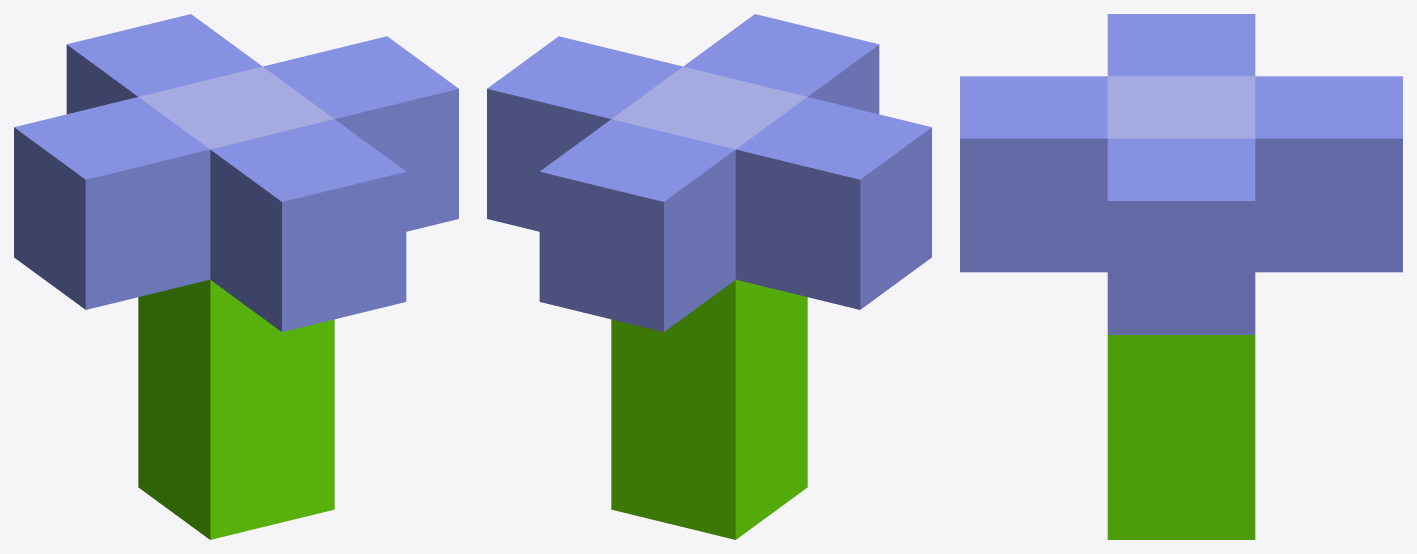
Rendered from (5) Tulip Flowers (Stage 3).obj.
3 views of the same model, side by side, from view 1: azimuth 30°, elevation 25°; view 2: azimuth 150°, elevation 25°; view 3: azimuth 270°, elevation 25° (orthographic). The views are drawn at different scales.
Bounding box in the file's own units: 0.3 × 0.3 × 0.3.
1 material, 1 textured.
